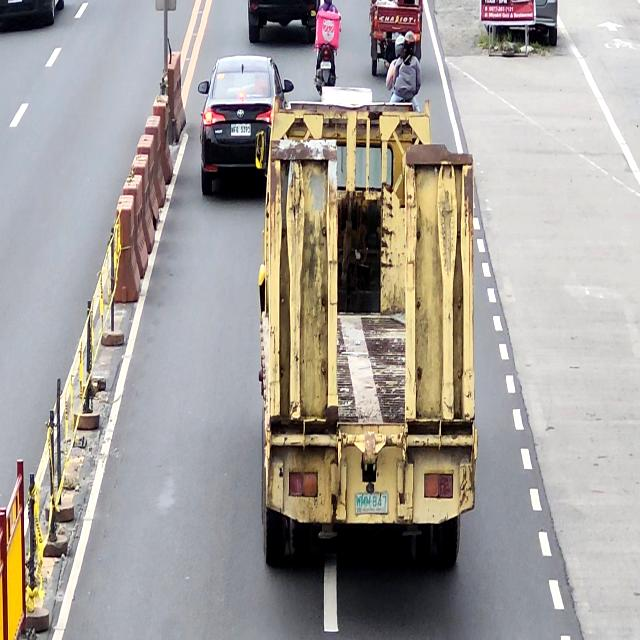Car: (199, 55, 294, 196)
License-Plate: (354, 492, 389, 514), (230, 123, 251, 136), (320, 61, 331, 69)
Motorcycle: (309, 8, 341, 96)
Truck: (258, 90, 479, 573)
